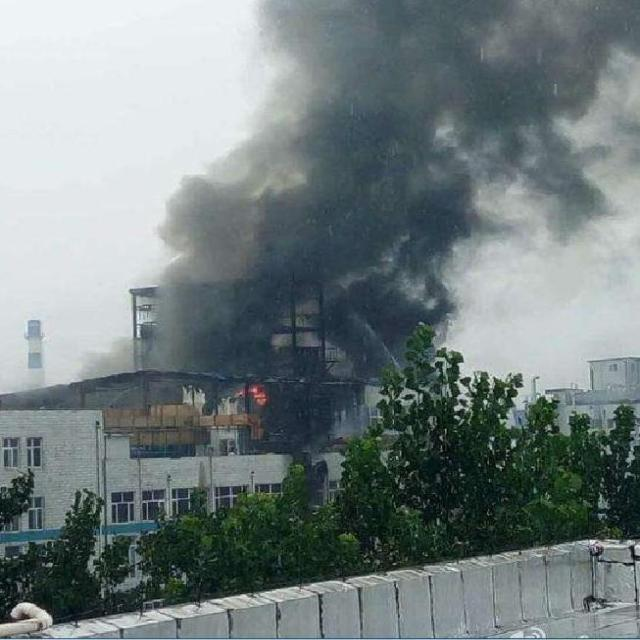Fire: (232, 379, 270, 409)
Smoke: (135, 0, 640, 422), (0, 336, 132, 422)
